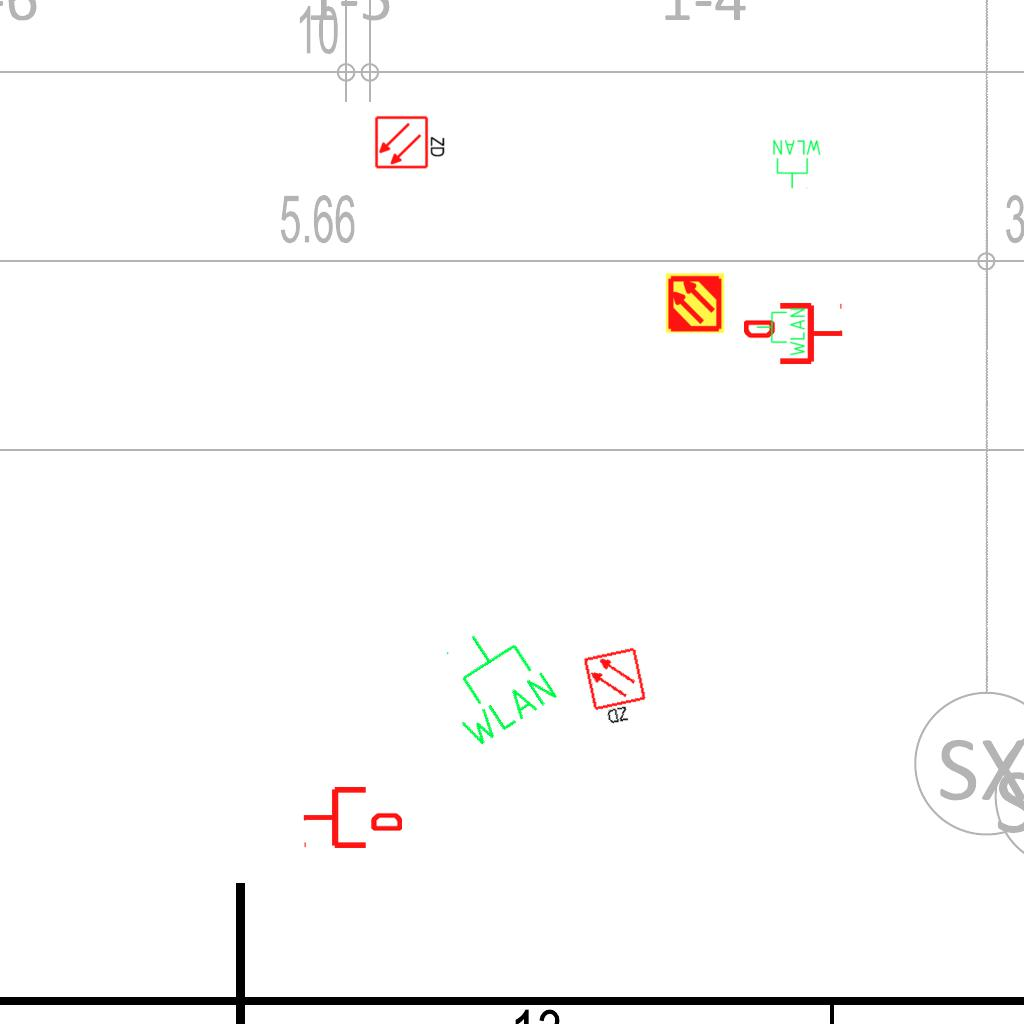ASR_Ansaugrauchmelder: (664, 272, 726, 334)
Datenanschluss_einfach: (744, 299, 844, 368), (302, 783, 402, 852)
WLAN: (418, 610, 564, 755), (771, 138, 823, 190), (755, 306, 807, 358)
ZD_Melder_in_Zwischendecke_mit_Revisionsoeffnung_mind_40_x_40_cm: (581, 645, 654, 731), (374, 113, 448, 170)
